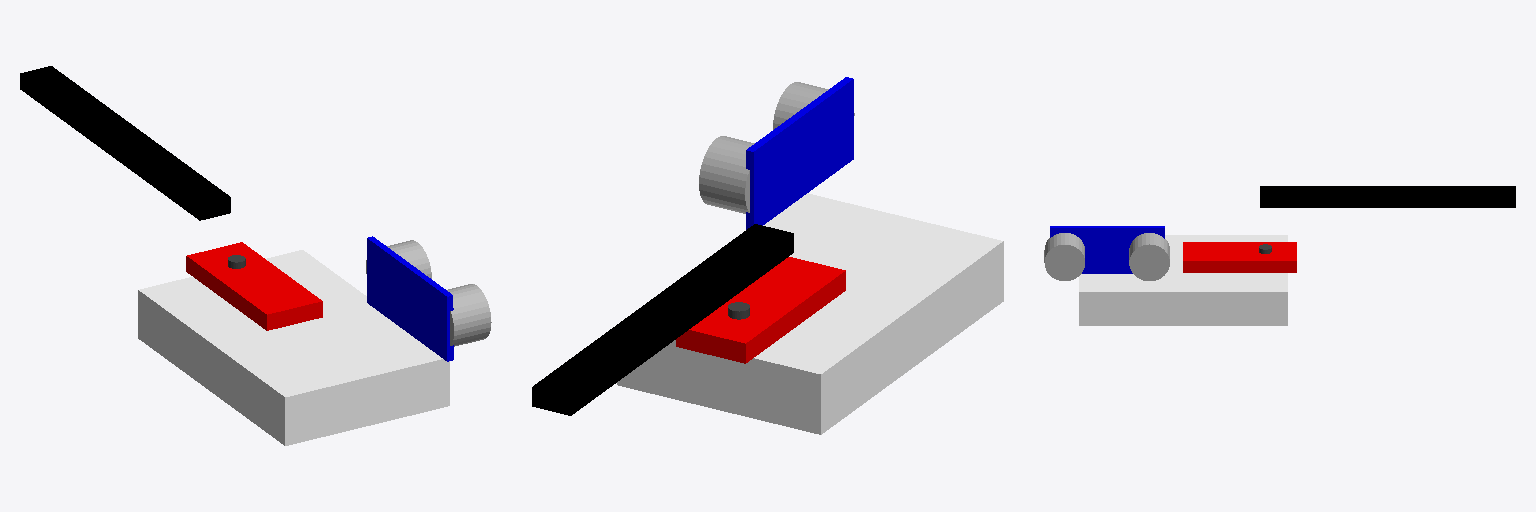
robot.urdf — robot:
<?xml version="1.0"?>
<robot name="robot">
  <link name="base_link">
    <visual>
      <origin xyz="0 0 0" rpy="0 0 0"/>
      <geometry>
        <box size="0.053 0.082 0.01"/>
      </geometry>
      <material name="white">
        <color rgba="1 1 1 1"/>
      </material>
    </visual>
  </link>

  <link name="breadboard_link">
    <visual>
      <origin xyz="0 0 0" rpy="0 0 0"/>
      <geometry>
        <box size="0.053 0.082 0.01"/>
      </geometry>
      <material name="white">
        <color rgba="1 1 1 1"/>
      </material>
    </visual>
  </link>

  <joint name="base_to_breadboard" type="fixed">
    <parent link="base_link"/>
    <child link="breadboard_link"/>
    <origin xyz="0 0 0.005" rpy="0 0 0"/>
  </joint>

  <link name="motor_link">
    <visual>
      <origin xyz="0 0 0" rpy="0 0 1.57"/>
      <geometry>
        <mesh filename="package://mechatrobot_ros2/urdf/28BYJ-48.STL" scale="0.001 0.001 0.001" />
      </geometry>
      <material name="silver">
        <color rgba="0.75 0.75 0.75 1"/>
      </material>
    </visual>
  </link>

  <link name="link1">
    <visual>
      <origin xyz="0 0 0" rpy="0 0 0" />
      <geometry>
        <box size="0.01 0.1 0.005"/>
      </geometry>
      <material name="black">
        <color rgba="0 0 0 1"/>
      </material>
    </visual>
  </link>

  <link name="range_sensor">
    <visual>
      <origin xyz="0 0 0" rpy="1.57 0 1.57" />
      <geometry>
        <box size="0.045 0.020 0.002"/>
      </geometry>
      <material name="blue">
        <color rgba="0 0 1 1"/>
      </material>
    </visual>
  </link>

  <link name="range_sensor_left_transducer">
    <visual>
      <origin xyz="0 0 0" rpy="0 1.57 0" />
      <geometry>
        <cylinder radius="0.008" length="0.012"/>
      </geometry>
      <material name="silver">
        <color rgba="0.75 0.75 0.75 1"/>
      </material>
    </visual>
  </link>

  <link name="range_sensor_right_transducer">
    <visual>
      <origin xyz="0 0 0" rpy="0 1.57 0" />
      <geometry>
        <cylinder radius="0.008" length="0.012"/>
      </geometry>
      <material name="silver">
        <color rgba="0.75 0.75 0.75 1"/>
      </material>
    </visual>
  </link>

  <link name="arduino_nano">
    <visual>
      <origin xyz="0 0 0" rpy="0 0 0" />
      <geometry>
        <box size="0.045 0.018 0.005"/>
      </geometry>
      <material name="arduino_red">
        <color rgba="1 0 0 1"/>
      </material>
    </visual>
  </link>

  <link name="led">
    <visual>
      <origin xyz="0 0 0" rpy="0 0 0" />
      <geometry>
        <cylinder radius="0.0025" length="0.002"/>
      </geometry>
      <material name="led_off">
        <color rgba="0.3 0.3 0.3 1"/>
      </material>
    </visual>
  </link>

  <joint name="base_to_motor" type="fixed">
    <parent link="breadboard_link" />
    <child link="motor_link" />
    <origin xyz="0 0.08 0" rpy="0 0 0" />
  </joint>

  <joint name="base_to_sensor" type="fixed">
    <parent link="breadboard_link" />
    <child link="range_sensor" />
    <origin xyz="0.02 -0.03 0.02" />
  </joint>

  <joint name="sensor_to_left_transducer" type="fixed">
    <parent link="range_sensor" />
    <child link="range_sensor_left_transducer" />
    <origin xyz="0.006 0.0166 0" rpy="0 0 0" />
  </joint>

  <joint name="sensor_to_right_transducer" type="fixed">
    <parent link="range_sensor" />
    <child link="range_sensor_right_transducer" />
    <origin xyz="0.006 -0.0166 0" rpy="0 0 0" />
  </joint>

  <joint name="breadboard_to_arduino" type="fixed">
    <parent link="breadboard_link" />
    <child link="arduino_nano" />
    <origin xyz="0 0.022 0.0075" rpy="0 0 1.57" />
  </joint>

  <joint name="arduino_to_led" type="fixed">
    <parent link="arduino_nano" />
    <child link="led" />
    <origin xyz="0.01 0 0.0035" rpy="0 0 0" />
  </joint>

  <joint name="joint1" type="revolute">
    <axis xyz="0 0 -1"/>
    <limit effort="1000.0" lower="-3.14" upper="3.14" velocity="0.5"/>
    <origin xyz="-0.008 0 0.03" />
    <parent link="motor_link" />
    <child link="link1" />
  </joint>

  <!-- ros2_control hardware interface -->
  <ros2_control name="MechatrobotHardwareSystem" type="system">
    <hardware>
      <plugin>mechatrobot_hardware/MechatrobotSystemHardware</plugin>
    </hardware>
    <joint name="joint1">
      <command_interface name="position">
        <param name="min">-3.14</param>
        <param name="max">3.14</param>
      </command_interface>
      <state_interface name="position"/>
      <state_interface name="velocity"/>
      <state_interface name="effort"/>
    </joint>
  </ros2_control>

</robot>

--- Render facts (derived) ---
3 views of the same robot in one strip: view 1: azimuth 30°, elevation 25°; view 2: azimuth 150°, elevation 25°; view 3: azimuth 270°, elevation 25° (orthographic).
Model robot with 9 links and 8 joints (1 revolute, 7 fixed), rooted at base_link, posed all joints at 0.
Visible links, largest first — view 1: breadboard_link, base_link, link1, arduino_nano, range_sensor, range_sensor_right_transducer, range_sensor_left_transducer; view 2: breadboard_link, base_link, link1, range_sensor, arduino_nano, range_sensor_left_transducer, range_sensor_right_transducer; view 3: breadboard_link, link1, base_link, arduino_nano, range_sensor, range_sensor_right_transducer, range_sensor_left_transducer.
Boxes of the visible links, x1,y1,x2,y2 form: breadboard_link: [138, 250, 449, 427]; base_link: [138, 312, 449, 445]; link1: [20, 66, 230, 220]; arduino_nano: [186, 242, 322, 330]; range_sensor: [367, 236, 453, 361]; range_sensor_right_transducer: [447, 284, 491, 346]; range_sensor_left_transducer: [366, 240, 431, 278]; breadboard_link: [636, 193, 1003, 408]; base_link: [617, 262, 1003, 434]; link1: [532, 224, 793, 415]; range_sensor: [746, 77, 853, 229]; arduino_nano: [676, 257, 845, 363]; range_sensor_left_transducer: [699, 136, 754, 213]; range_sensor_right_transducer: [773, 82, 854, 129]; breadboard_link: [1079, 235, 1287, 302]; link1: [1260, 186, 1515, 207]; base_link: [1079, 303, 1287, 325]; arduino_nano: [1183, 242, 1296, 272]; range_sensor: [1050, 226, 1164, 273]; range_sensor_right_transducer: [1044, 233, 1084, 280]; range_sensor_left_transducer: [1129, 233, 1169, 280].
Bounding box of the posed robot: 0.0585 × 0.1846 × 0.0425 m (x, y, z).
Meshes: 1 distinct files referenced, 0 mesh visuals loaded (none loaded); not drawn: 1 (reference not matched to a file when rendering).
